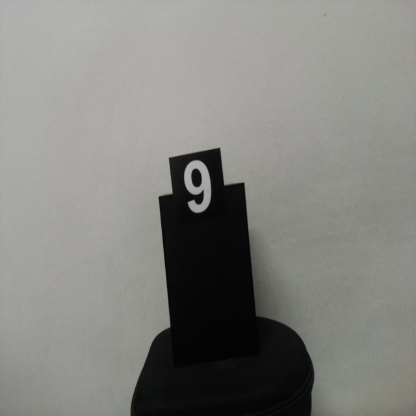id_9: (169, 158, 224, 242)
